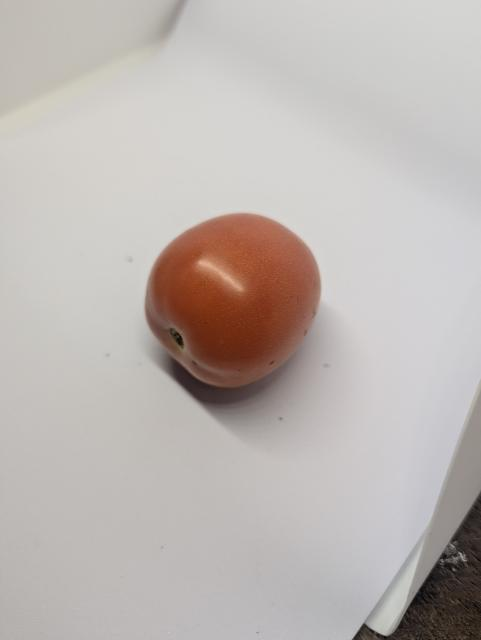red: (138, 210, 329, 401)
